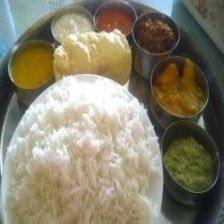dal: (8, 39, 56, 89)
